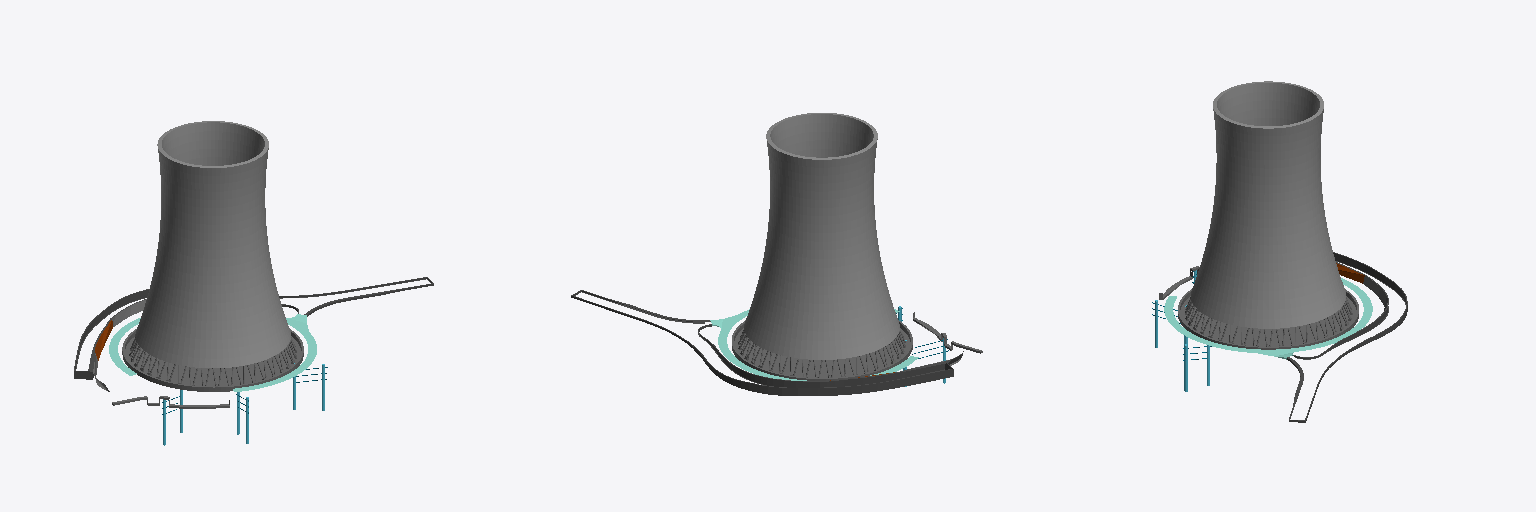
The model's file is tower2.obj.
3 renders of one model, left to right at view 1: azimuth 30°, elevation 25°; view 2: azimuth 150°, elevation 25°; view 3: azimuth 270°, elevation 25°, orthographic.
Visible parts, largest first — view 1: Cylinder462, Cylinder023, Line021, _005; view 2: Cylinder462, Line021, Cylinder023, _005; view 3: Cylinder462, Cylinder023, Line021, _005.
Boxes of the visible parts, x1,y1,x2,y2 form: Cylinder462: [135, 121, 290, 367]; Cylinder023: [122, 329, 303, 391]; Line021: [74, 277, 433, 379]; _005: [109, 318, 316, 391]; Cylinder462: [744, 113, 899, 359]; Line021: [571, 290, 953, 395]; Cylinder023: [732, 320, 912, 380]; _005: [718, 309, 918, 380]; Cylinder462: [1191, 81, 1345, 328]; Cylinder023: [1178, 289, 1358, 349]; Line021: [1287, 252, 1407, 422]; _005: [1164, 278, 1372, 352].
Size of the model in its own units: 7504 by 4982 by 4512.